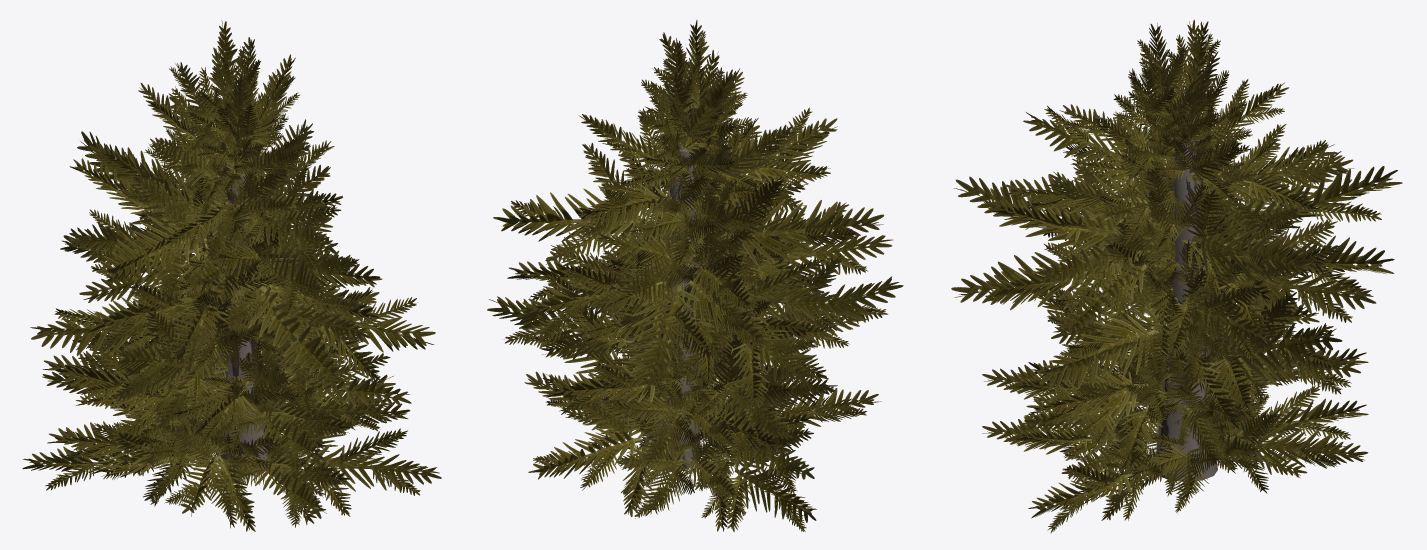
Rendered from PinitoEnano.fbx.
3 renders of one model, left to right at view 1: azimuth 30°, elevation 25°; view 2: azimuth 150°, elevation 25°; view 3: azimuth 270°, elevation 25°, orthographic. The views are drawn at different scales.
Visible parts, largest first — view 1: pinitoenano; view 2: pinitoenano; view 3: pinitoenano.
Part boxes in pixels (x1,y1,x2,y2): pinitoenano: (22,20,441,531); pinitoenano: (487,20,903,531); pinitoenano: (951,19,1402,532).
Size of the model in its own units: 3.09 by 4.1 by 3.58.
